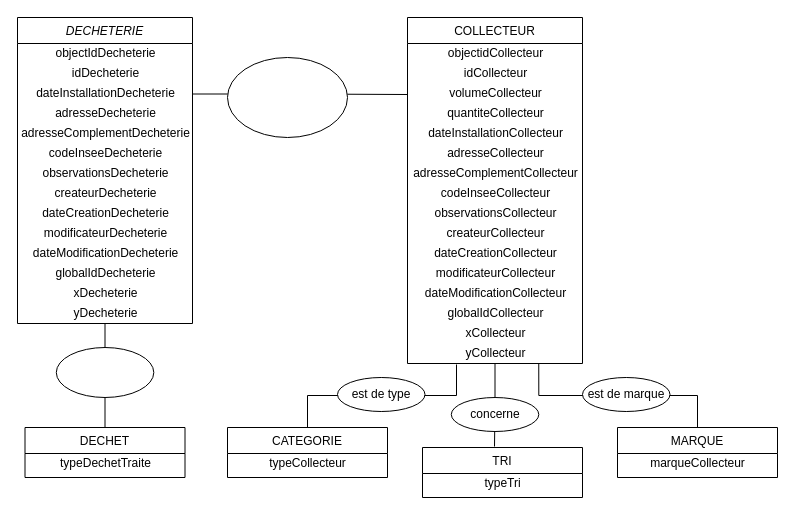
This 795x515 diagram has some shape labels left out. Each missing label, with the centre of its shape:
"dépend de" belongs at (287,97).
"traite" belongs at (104,372).
